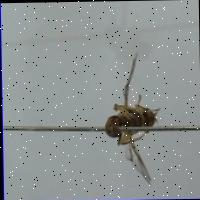Oriental-fruit-fly: (102, 47, 167, 190)
